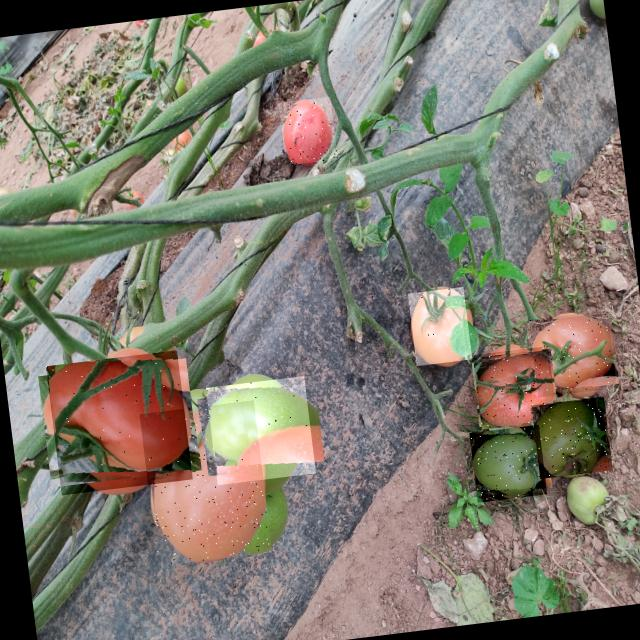Ripe Tomato: (139, 400, 272, 566), (46, 350, 192, 495), (528, 310, 616, 397), (472, 346, 557, 430), (408, 286, 472, 366), (278, 96, 338, 165)
Unripe Tomato: (206, 376, 316, 484), (531, 396, 612, 478), (468, 424, 546, 502)
